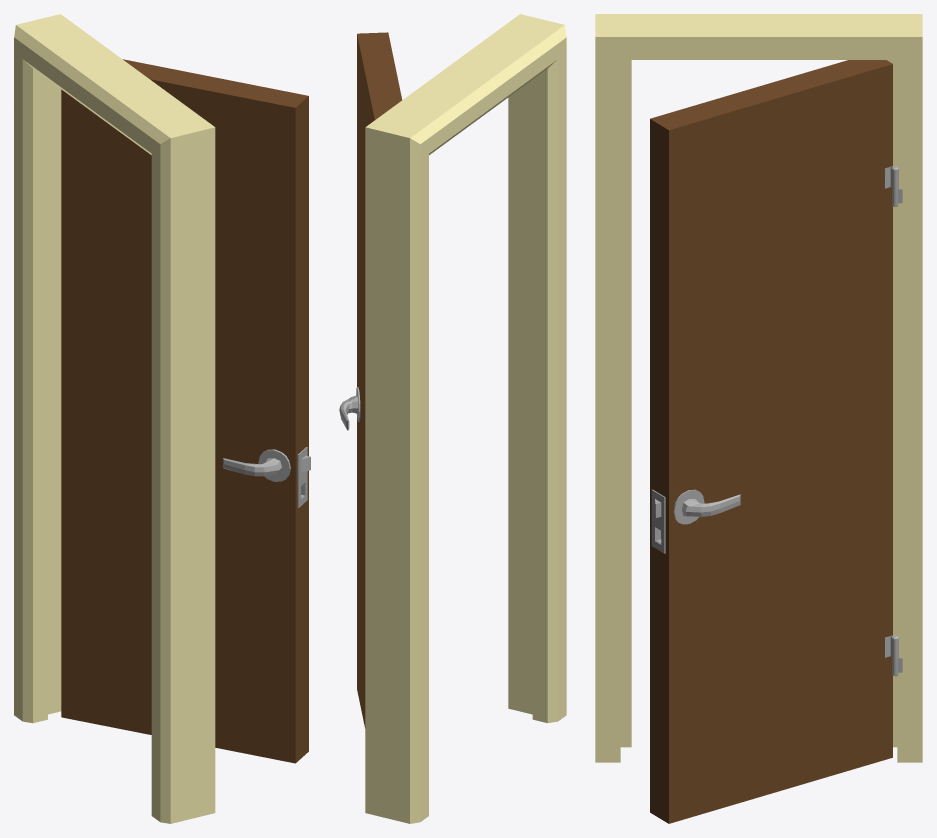
The model's file is doorOpen.glb.
3 views of the same model, side by side, from view 1: azimuth 30°, elevation 25°; view 2: azimuth 150°, elevation 25°; view 3: azimuth 270°, elevation 25° (orthographic). The views are drawn at different scales.
Parts seen in each view (by area): view 1: Door, Door_Frame, Handle; view 2: Door_Frame, Door, Handle; view 3: Door, Door_Frame, Handle.
Part boxes in pixels (x1,y1,x2,y2): Door: (61, 59, 310, 763); Door_Frame: (14, 14, 215, 823); Handle: (223, 449, 290, 481); Door_Frame: (365, 14, 566, 823); Door: (357, 32, 402, 728); Handle: (339, 387, 360, 430); Door: (650, 60, 898, 823); Door_Frame: (595, 14, 922, 762); Handle: (673, 489, 740, 524).
Bounding box in the file's own units: 0.5919 × 2.17 × 0.8858.
